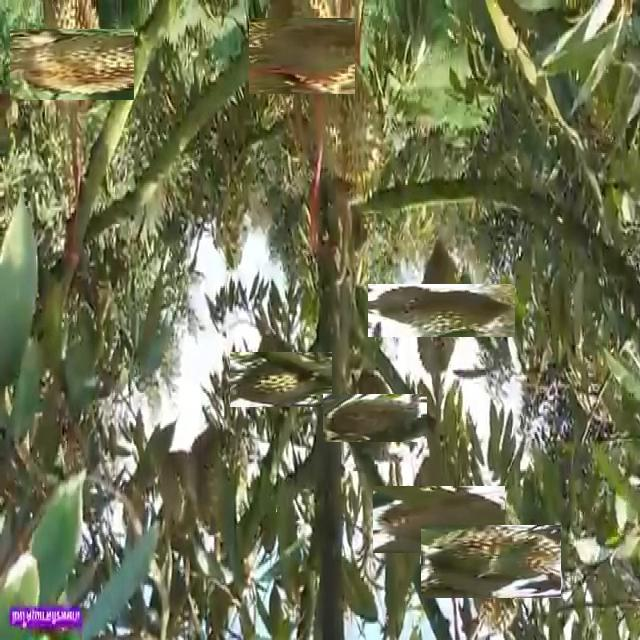durian: (303, 57, 392, 199), (437, 509, 545, 615), (391, 260, 492, 360), (390, 470, 490, 569), (24, 15, 121, 114), (256, 10, 348, 101), (184, 423, 252, 541), (241, 340, 321, 419), (336, 380, 413, 456)
